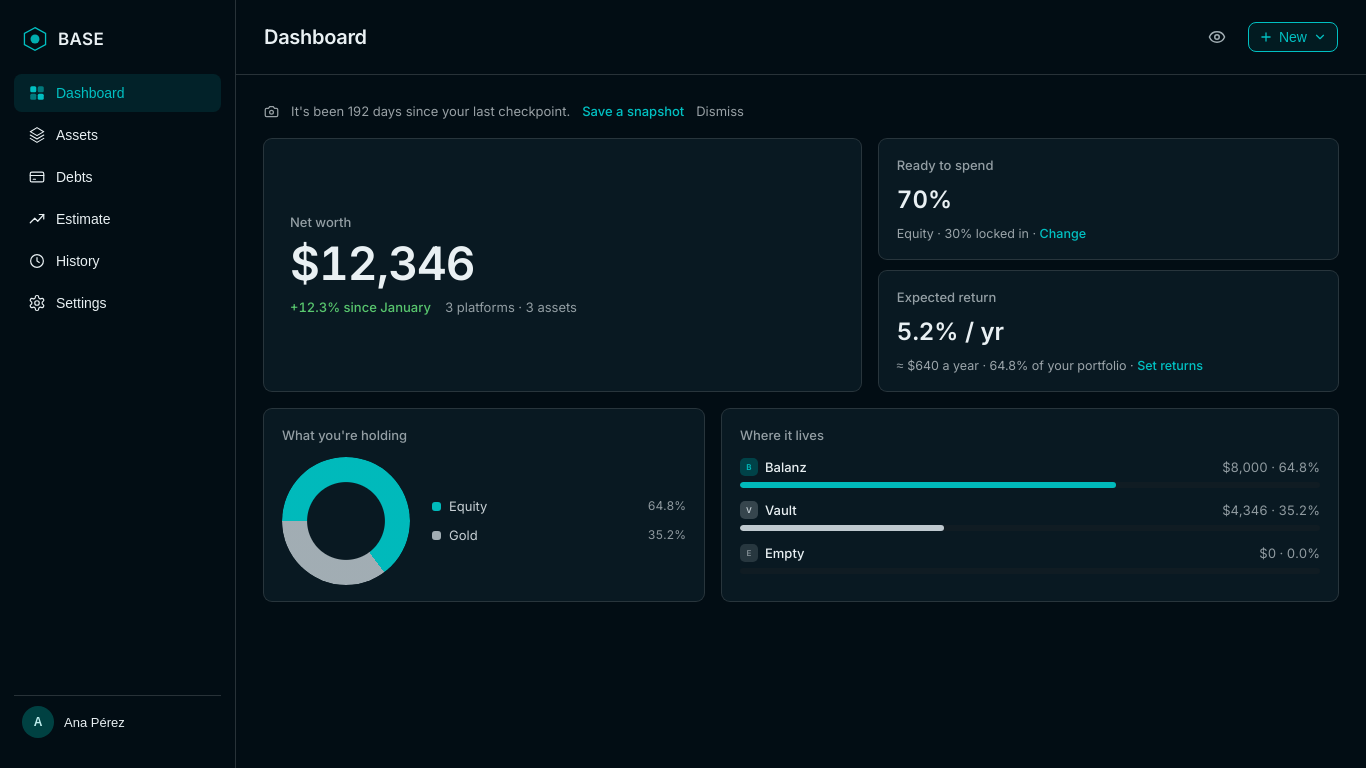
Scenario: Settings › creates a class
Expected: the text "$12,346" is shown, [290,235,475,291]
Click the button "Settings" at coordinates (118, 303), box [14,284,221,322]
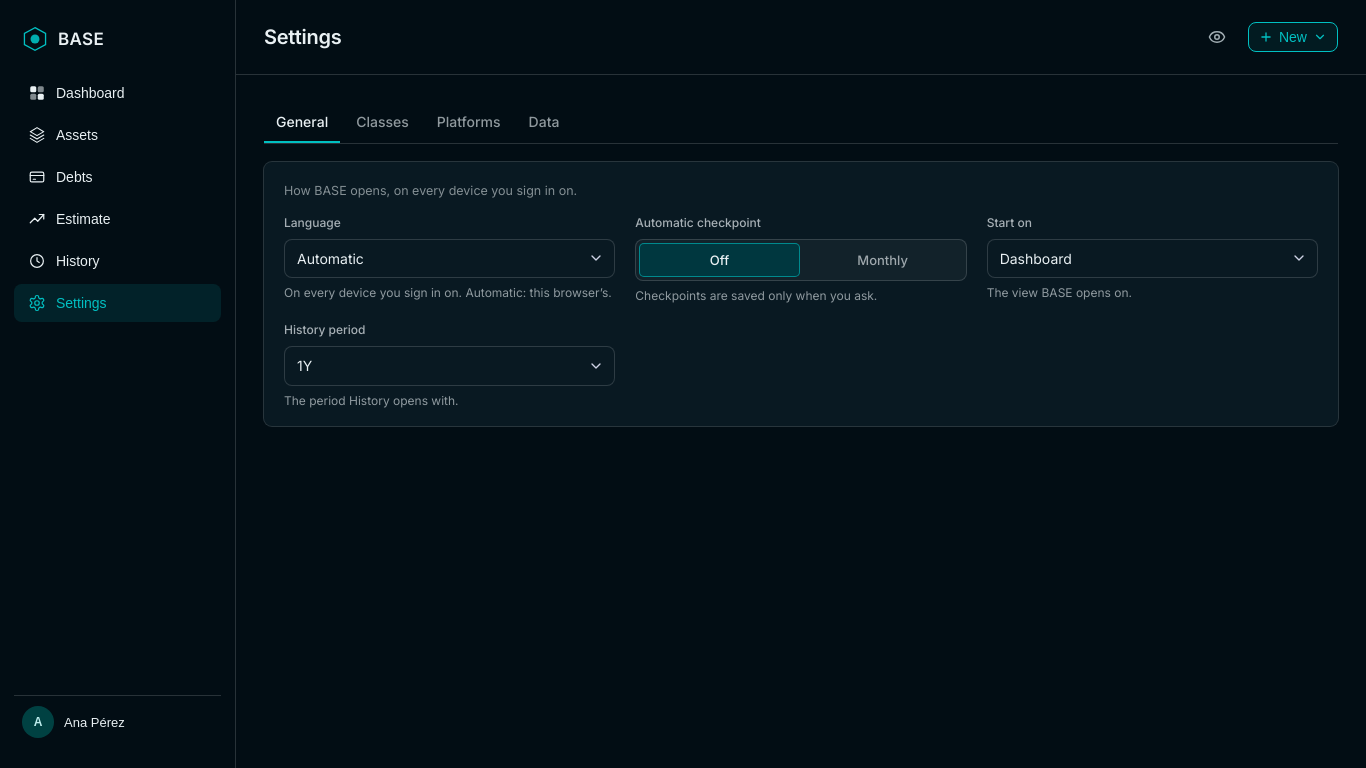
Click the tab "Classes" at coordinates (382, 122), box [344,101,421,143]
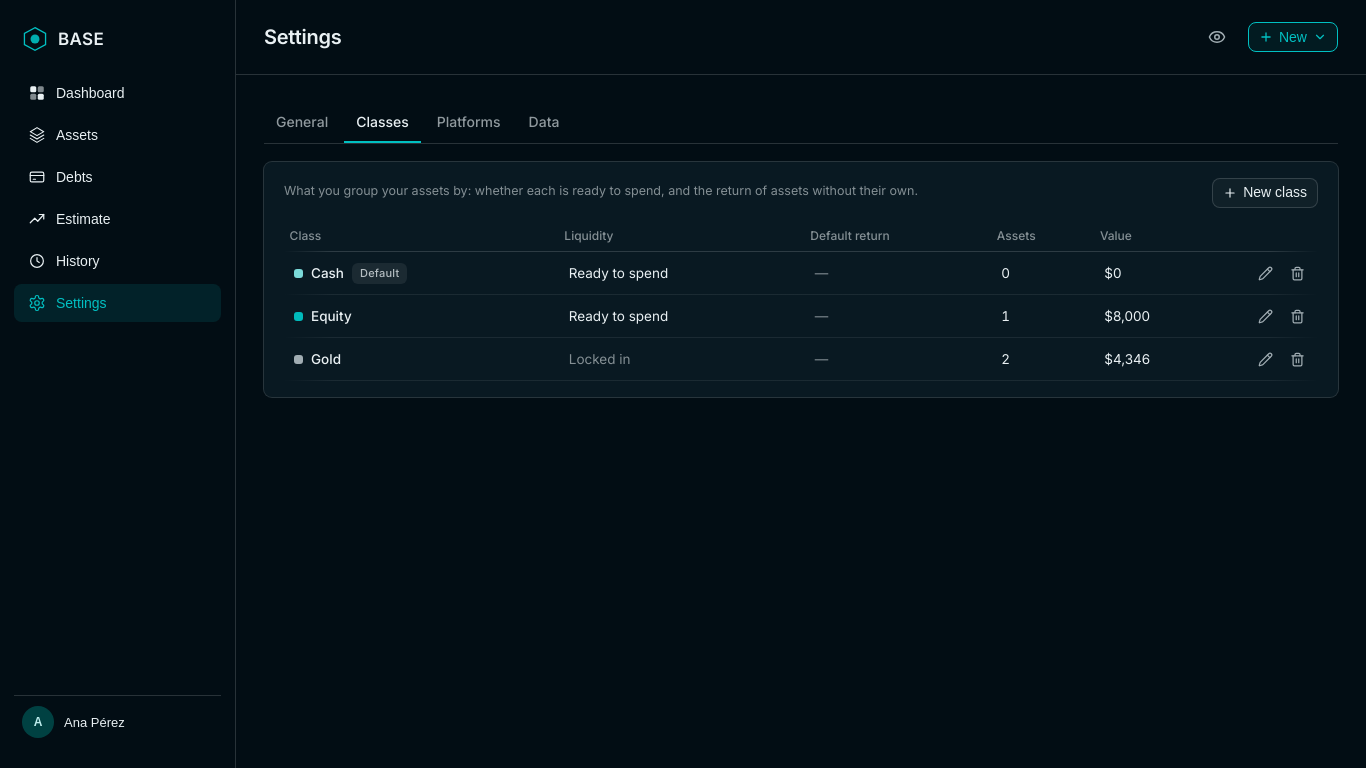
Click the button "New class" at coordinates (1265, 193), box [1212,178,1318,208]
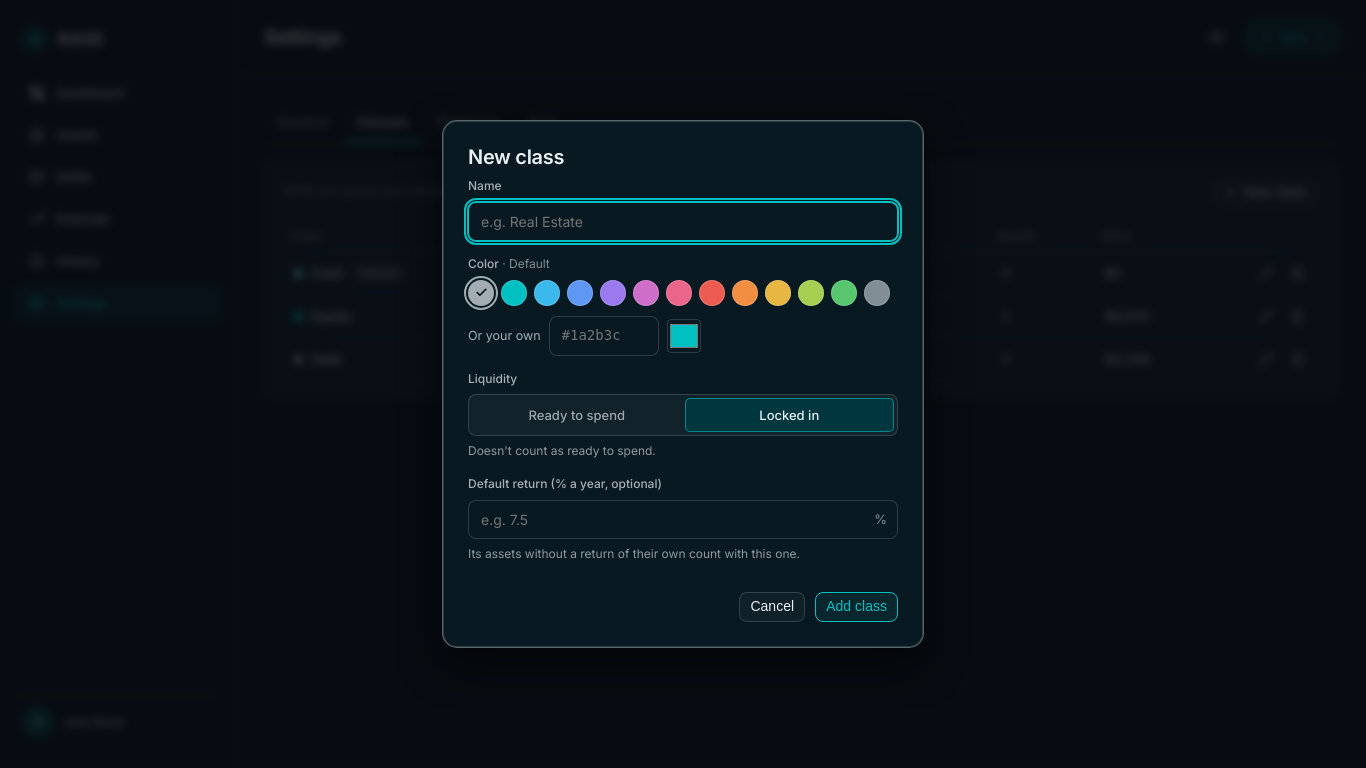
Type "  Real Estate " into the field labelled "Name" at coordinates (683, 221), box [468,202,898,241]
Click the radio button named "Violet" at coordinates (613, 293), box [600,280,626,306]
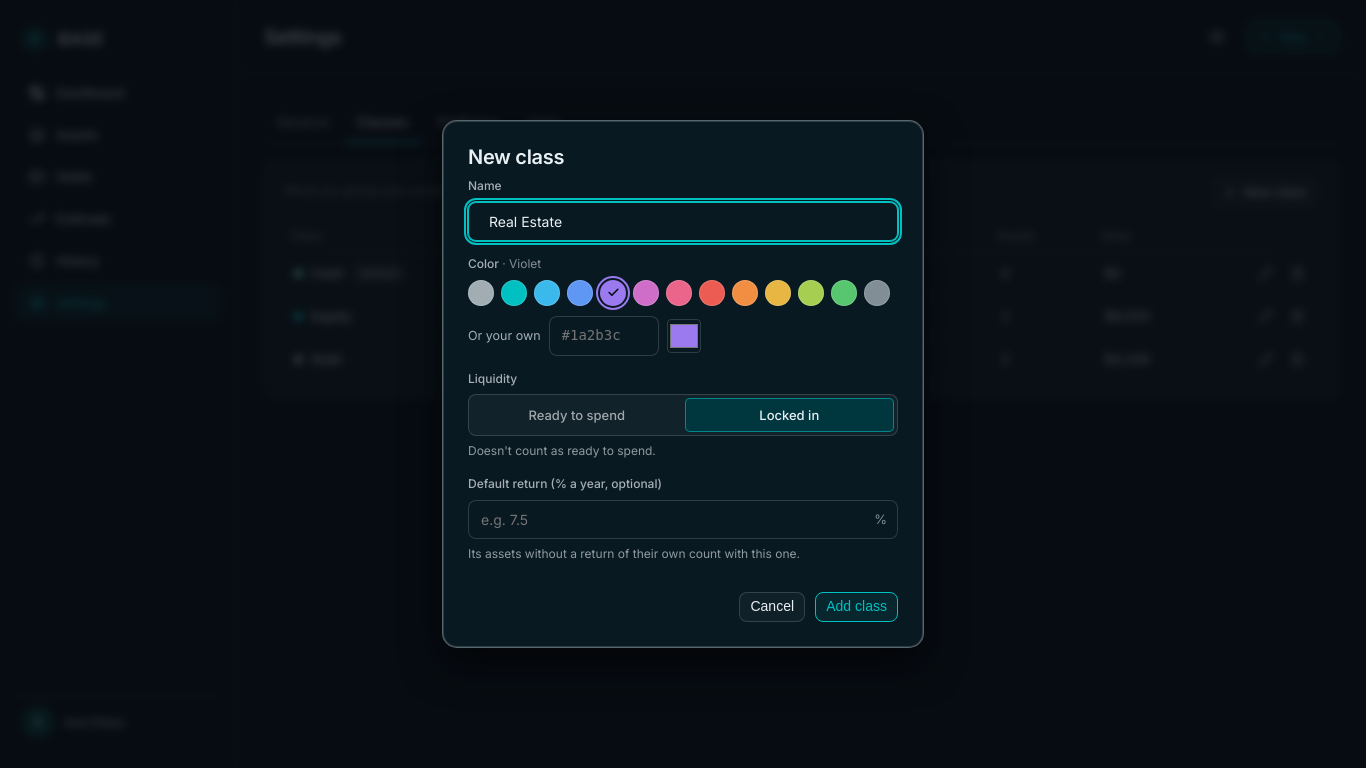
Type "6,5" into the field labelled "Default return (% a year, optional)" at coordinates (683, 519), box [468,500,898,539]
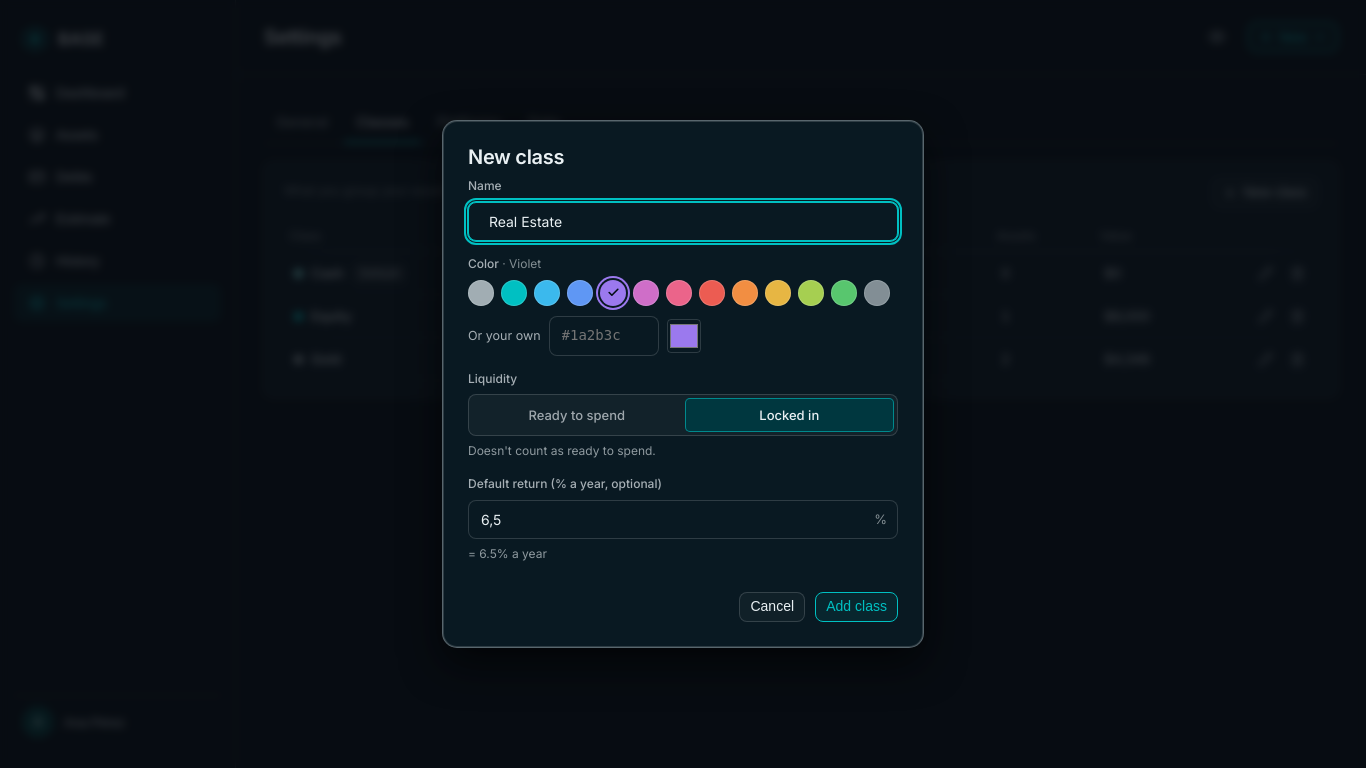
Click the button "Add class" at coordinates (857, 607), box [815,592,898,622]
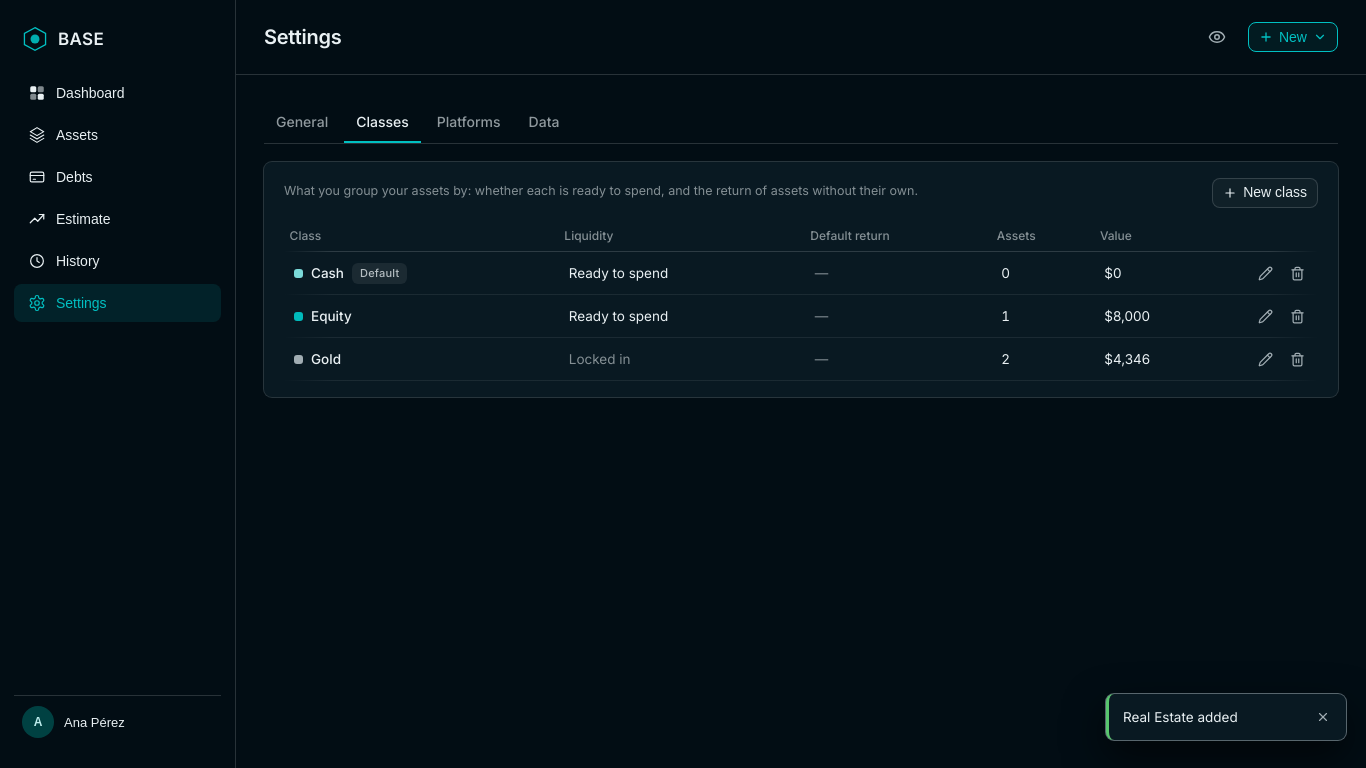
Now the text "Real Estate added" is shown, box [1123,708,1238,724]
